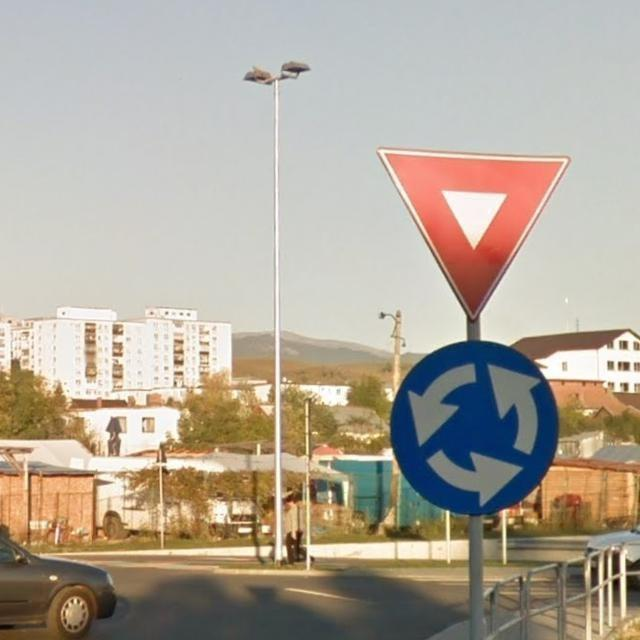prio_give_way: (374, 142, 569, 323)
